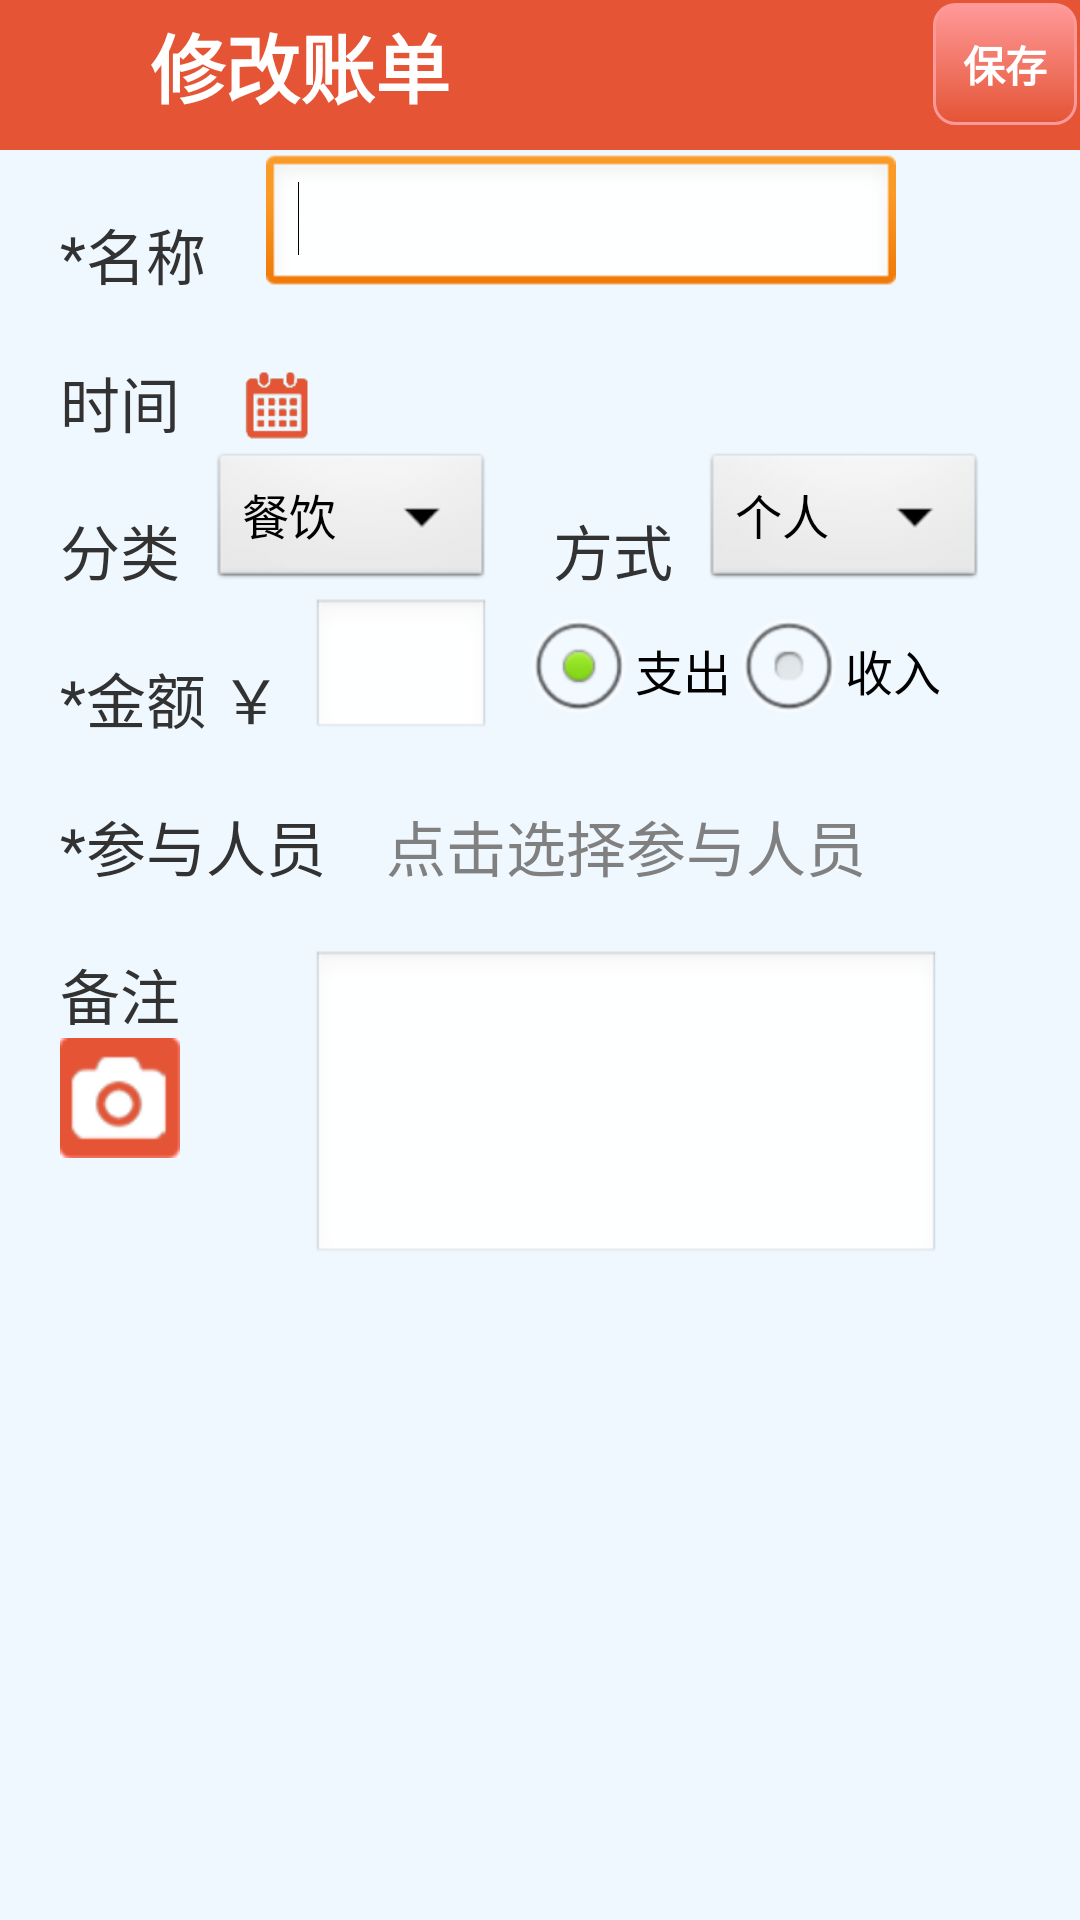

Named icons in this screenshot (1080×1920) and their bounding boxes, (x1, y1, x2, y2):
billmanageactivity buttonselector camera: (60, 1038, 180, 1158)
